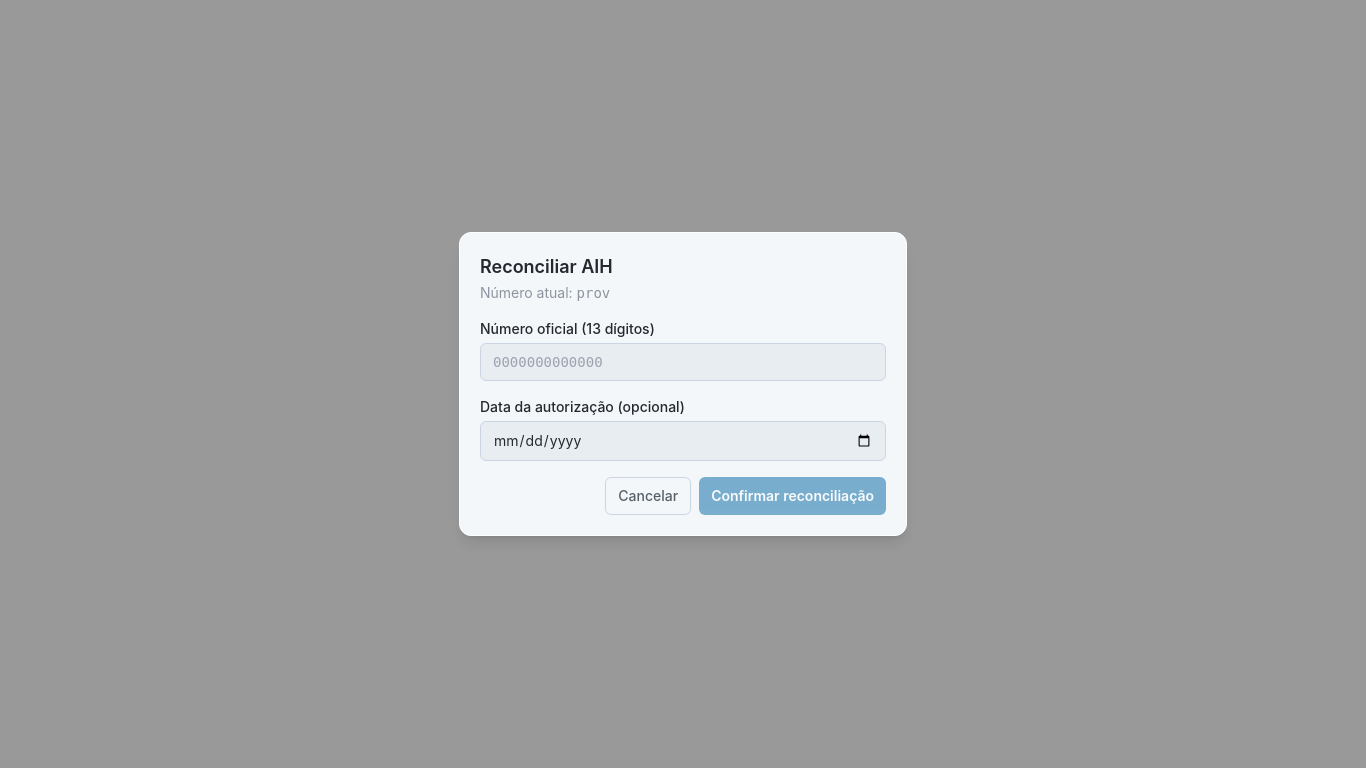
ReconciliarAihModal › surfaces a friendly message on 409
The width and height of the screenshot is (1366, 768).
Step 1. Type "9999999999999" into the field labelled "Número oficial" → (683, 362), box [480,343,886,381]
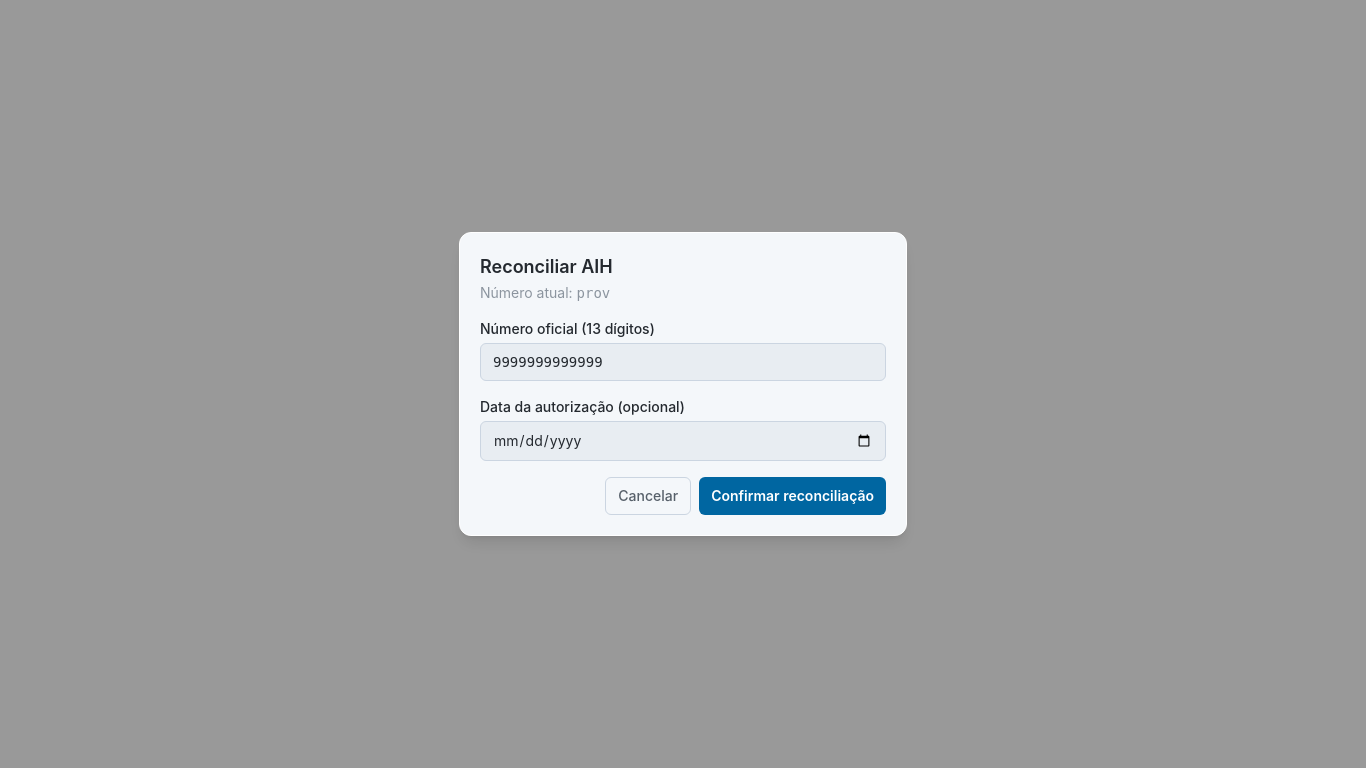
Step 2. Click the button "Confirmar reconciliação" → (793, 496), box [699,477,886,515]
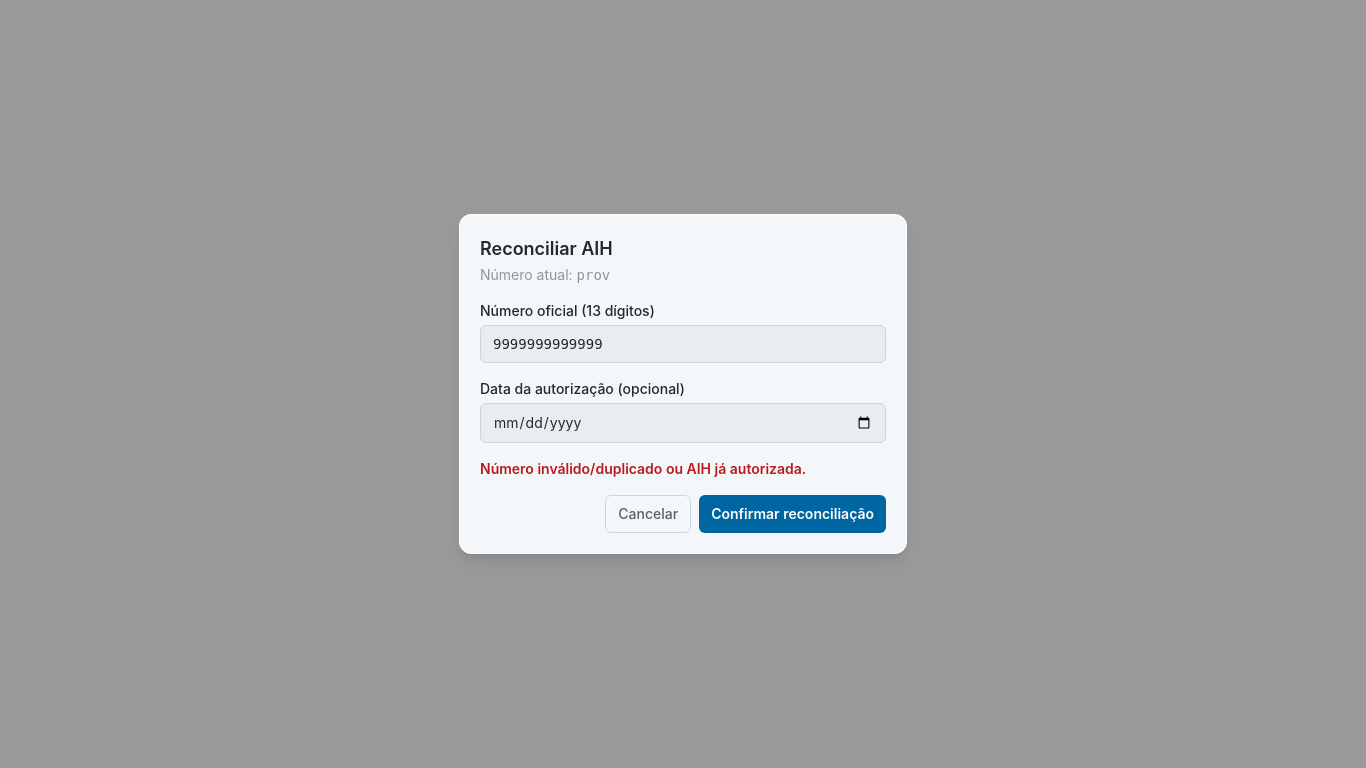
Expected: the text "Número inválido/duplicado ou AIH já autorizada." is shown, [480,460,806,477]
